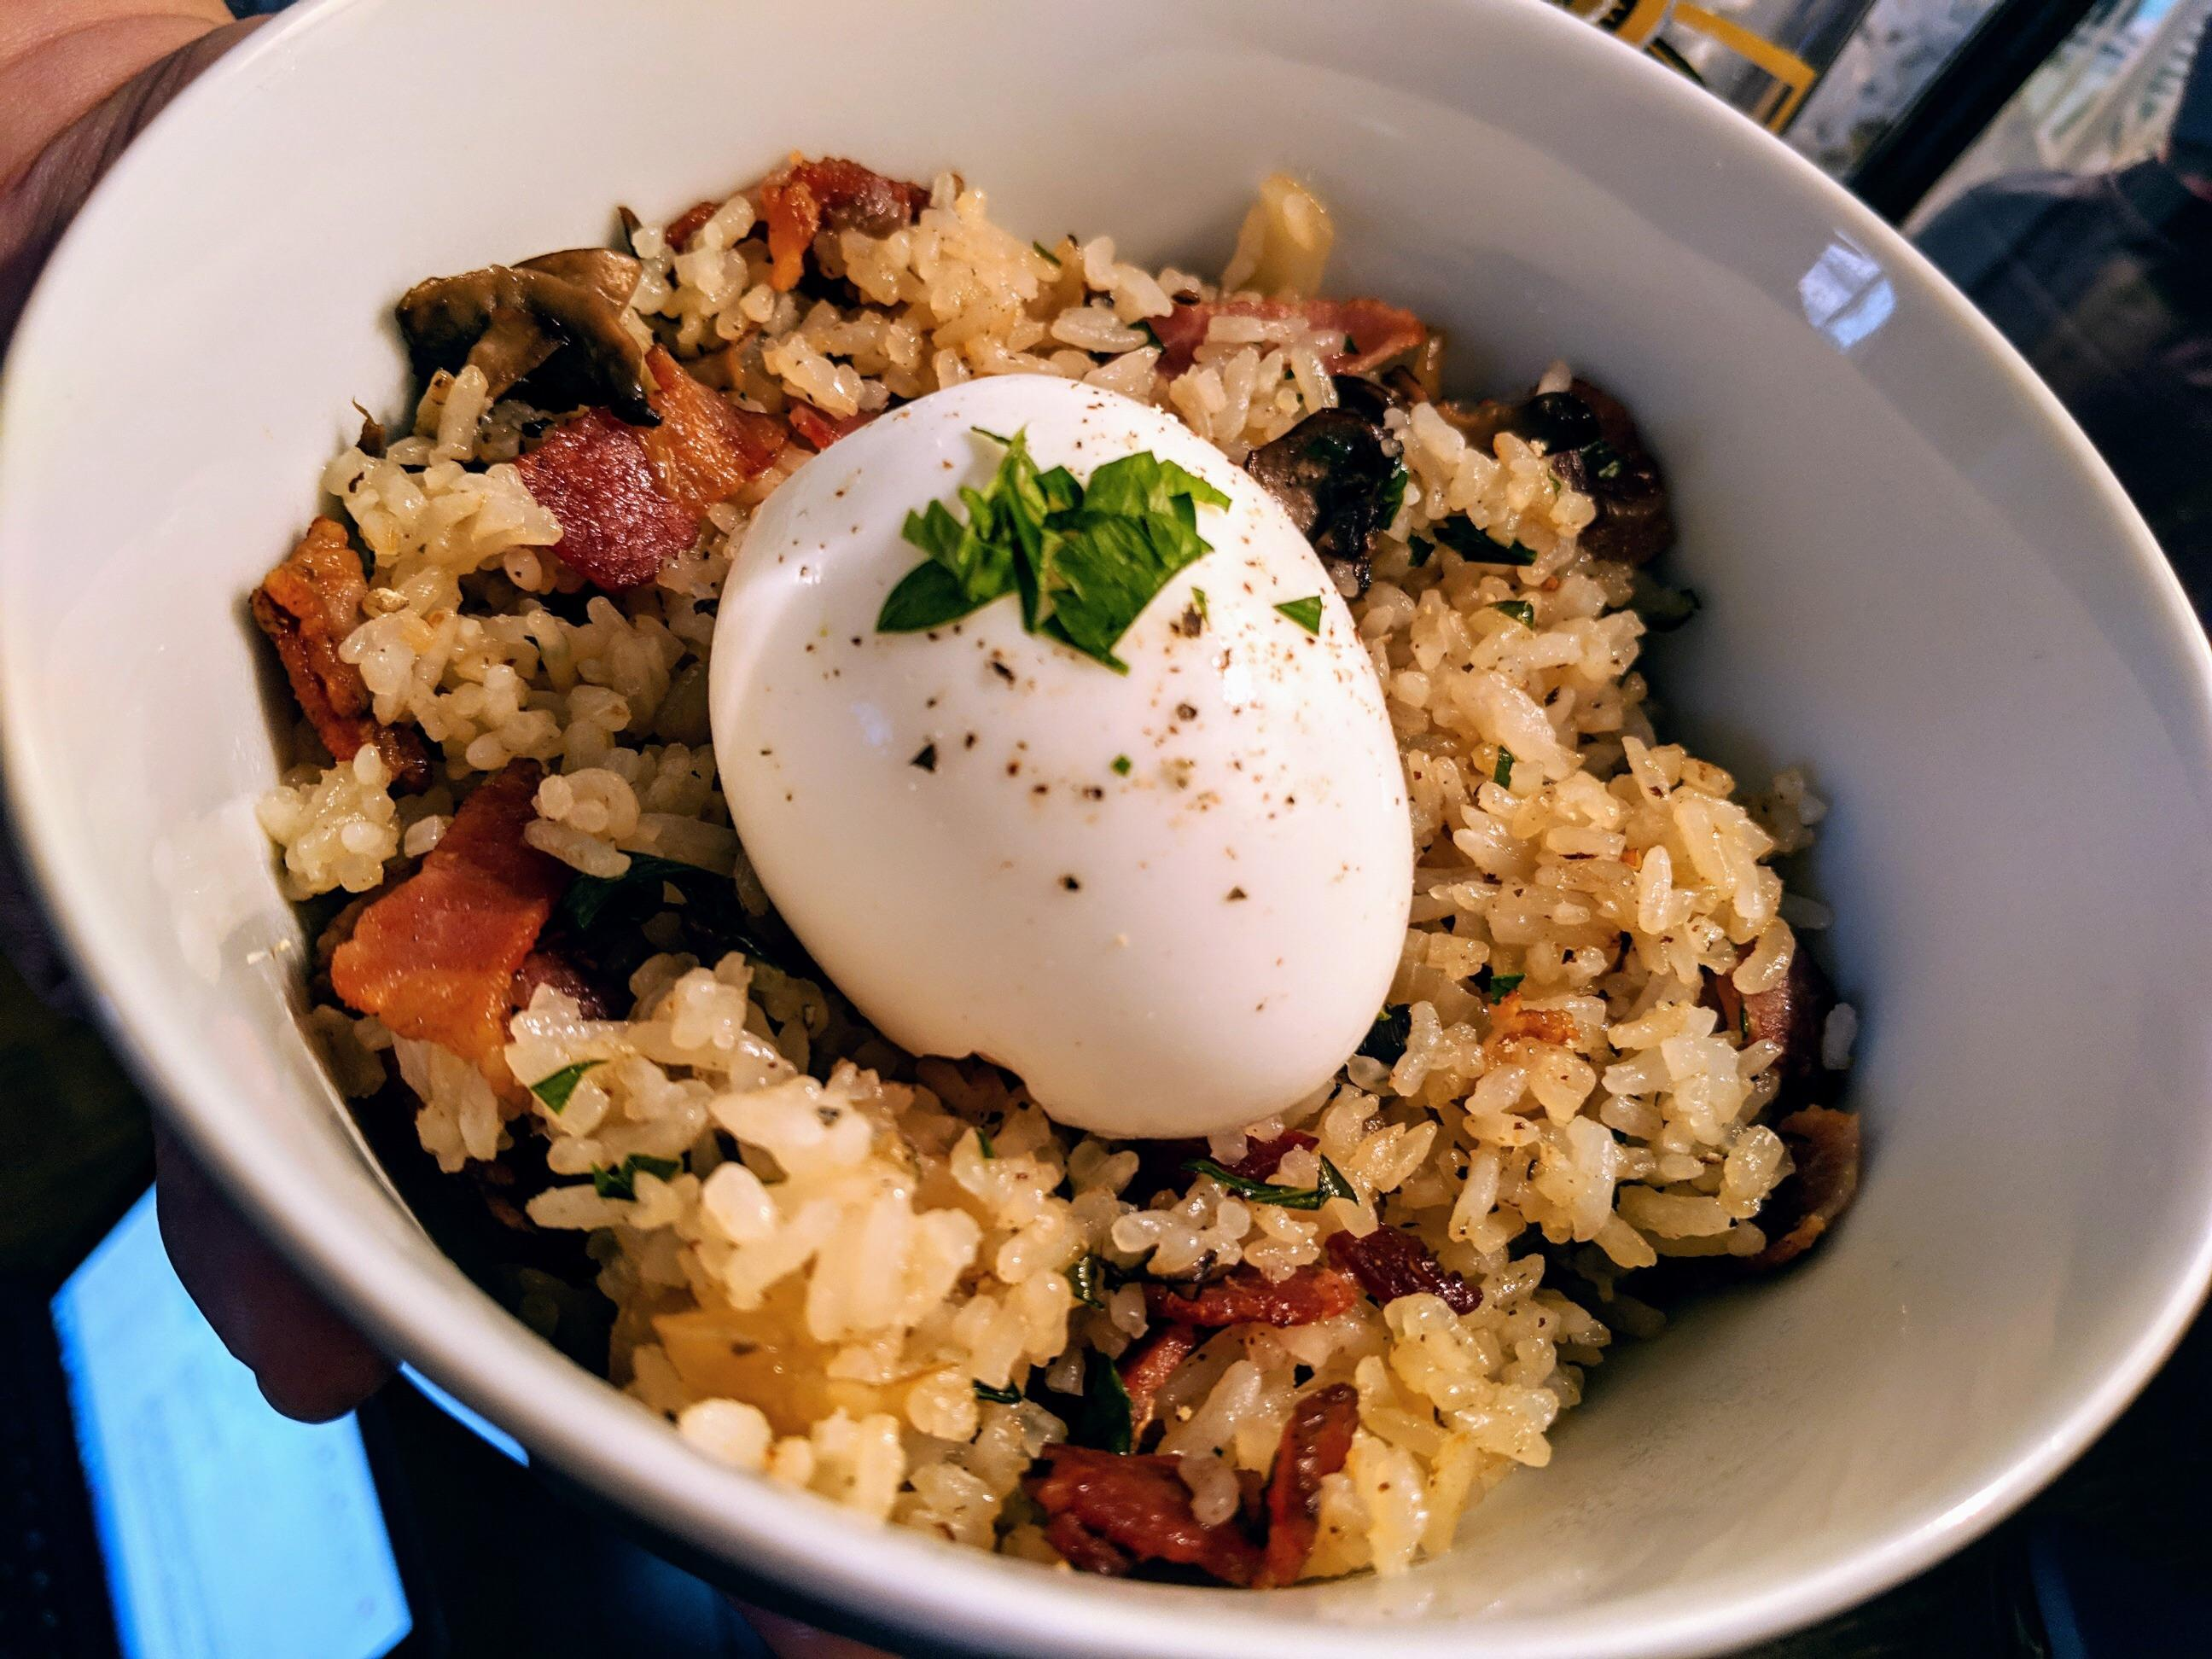egg: (716, 382, 1456, 1155)
rice: (294, 115, 1804, 1539)
